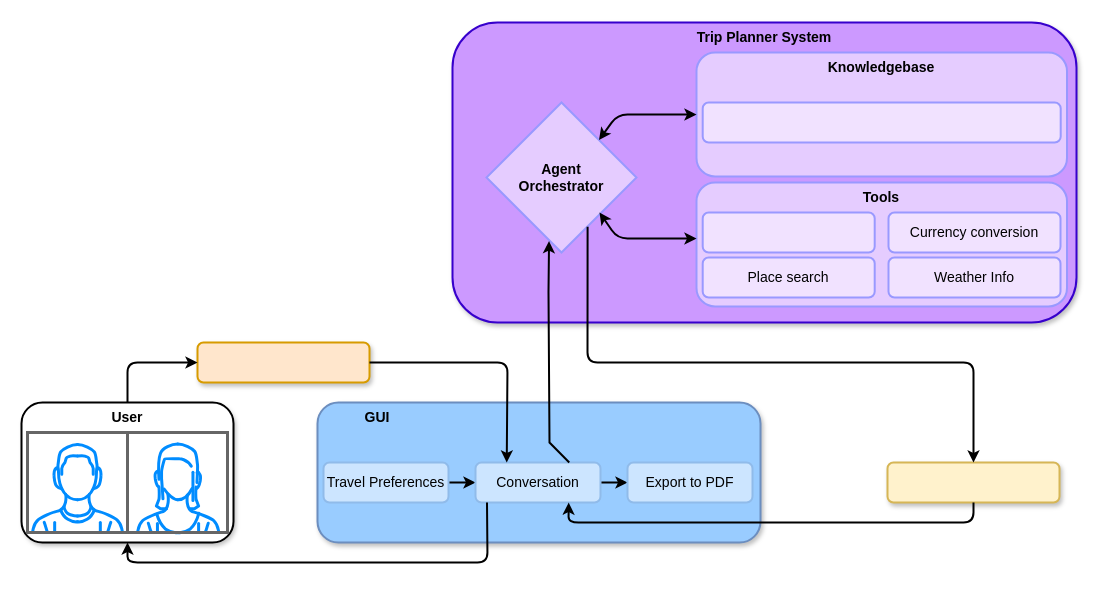
The diagram is 1101 pixels wide and 594 high, and some of its shapes have lost their labels. Each missing label, with the centre of its shape:
Context Memory: the point at 881,122
Expense calculator: the point at 788,232
Personalized Itinerary: the point at 974,483
Travel Request: the point at 284,363
